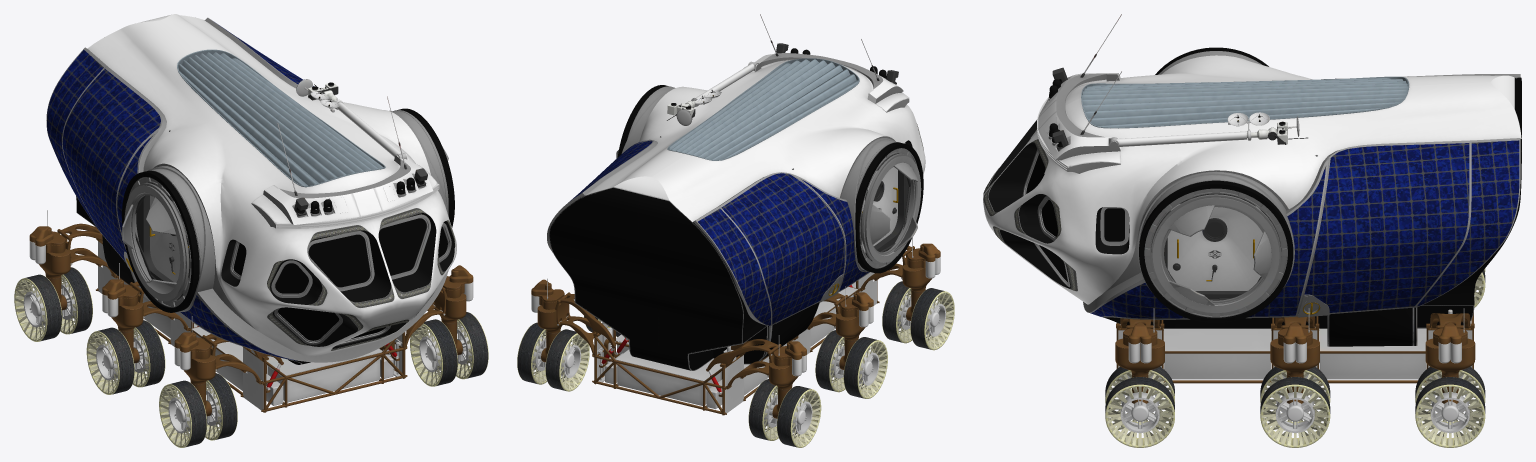
Rendered from sev_rover_webp.glb.
3 renders of one model, left to right at view 1: azimuth 30°, elevation 25°; view 2: azimuth 150°, elevation 25°; view 3: azimuth 270°, elevation 25°, orthographic. The views are drawn at different scales.
Parts seen in each view (by area): view 1: MMSEV; view 2: MMSEV; view 3: MMSEV.
Part boxes in pixels (x1,y1,x2,y2): MMSEV: (14,14,488,447); MMSEV: (517,14,954,447); MMSEV: (983,14,1521,447).
Bounding box in the file's own units: 4.04 × 3.97 × 5.91.
1 material, 1 textured.
